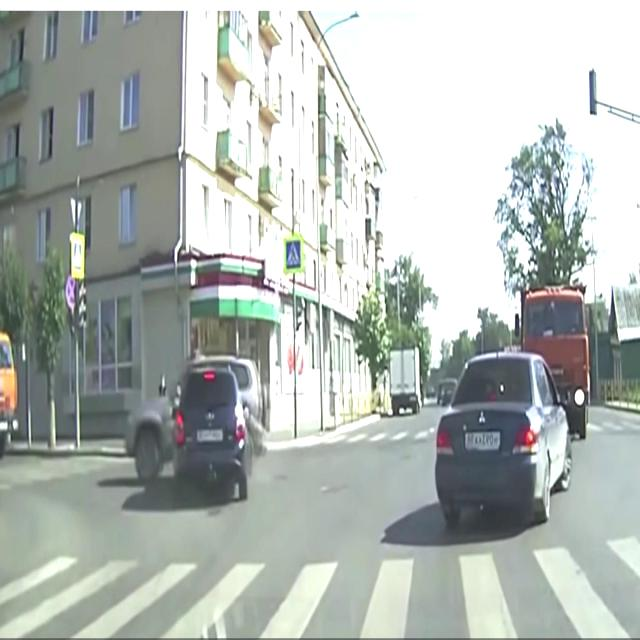accident: (128, 354, 262, 504)
non-accident: (432, 286, 592, 532)
